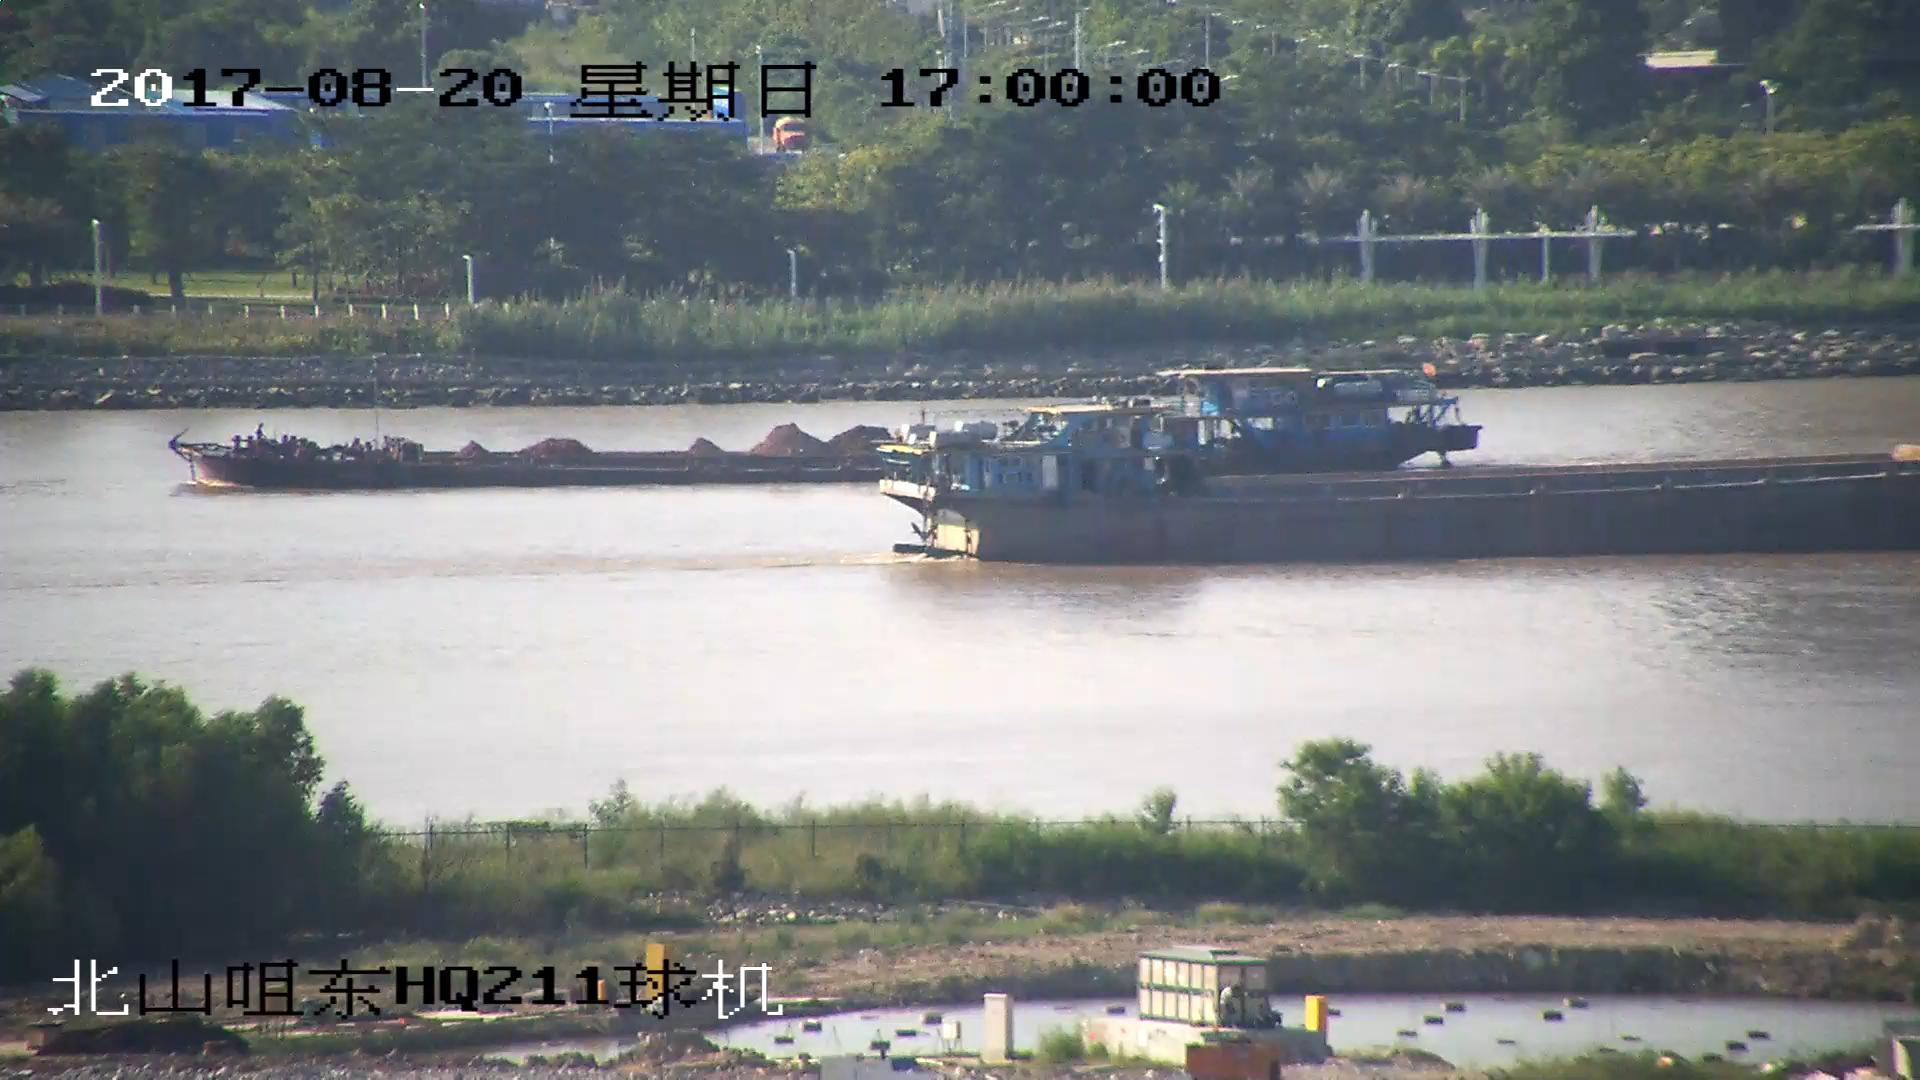Ship: (169, 367, 1476, 496), (873, 409, 1920, 570)
